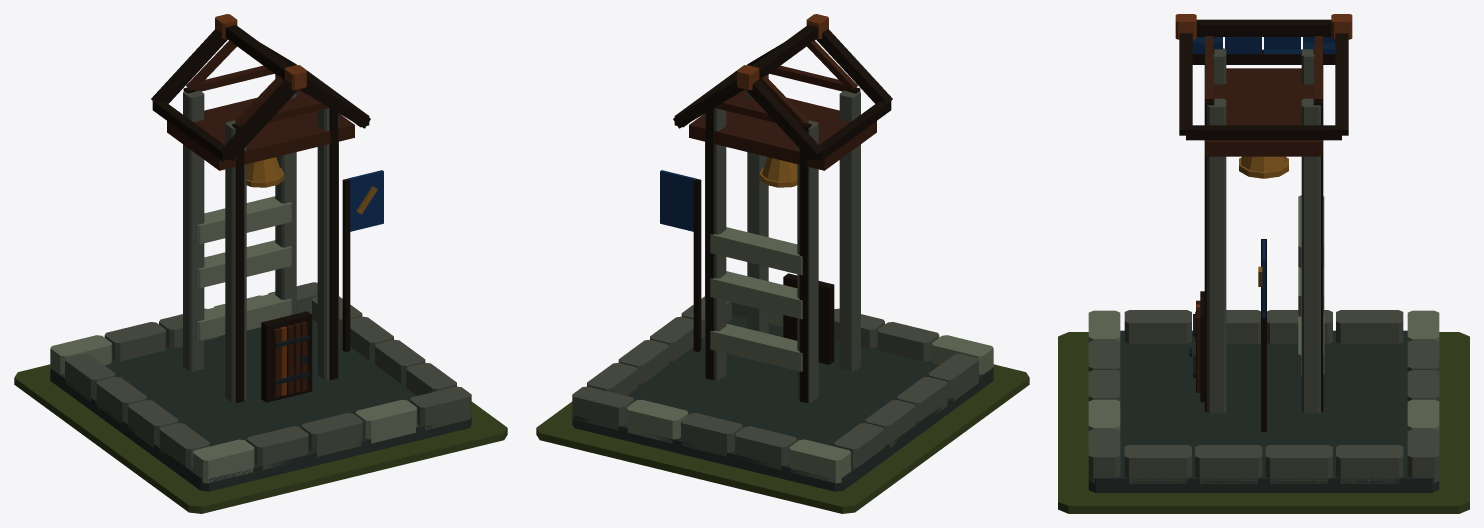
File: bell-tower_t3.glb
3 views of the same model, side by side, from view 1: azimuth 30°, elevation 25°; view 2: azimuth 150°, elevation 25°; view 3: azimuth 270°, elevation 25° (orthographic). The views are drawn at different scales.
Visible parts, largest first — view 1: MMR | bell-tower | T03 Architecture.001, MMR | bell-tower | Tier 03 Ground.001; view 2: MMR | bell-tower | T03 Architecture.001, MMR | bell-tower | Tier 03 Ground.001; view 3: MMR | bell-tower | T03 Architecture.001, MMR | bell-tower | Tier 03 Ground.001.
Part boxes in pixels (x1,y1,x2,y2): MMR | bell-tower | T03 Architecture.001: (50,14,471,491); MMR | bell-tower | Tier 03 Ground.001: (14,364,507,513); MMR | bell-tower | T03 Architecture.001: (572,14,993,491); MMR | bell-tower | Tier 03 Ground.001: (536,364,1029,513); MMR | bell-tower | T03 Architecture.001: (1088,14,1439,492); MMR | bell-tower | Tier 03 Ground.001: (1058,332,1469,513).
Bounding box in the file's own units: 2.35 × 2.58 × 2.35.
Materials: 1 (1 with a texture image).
